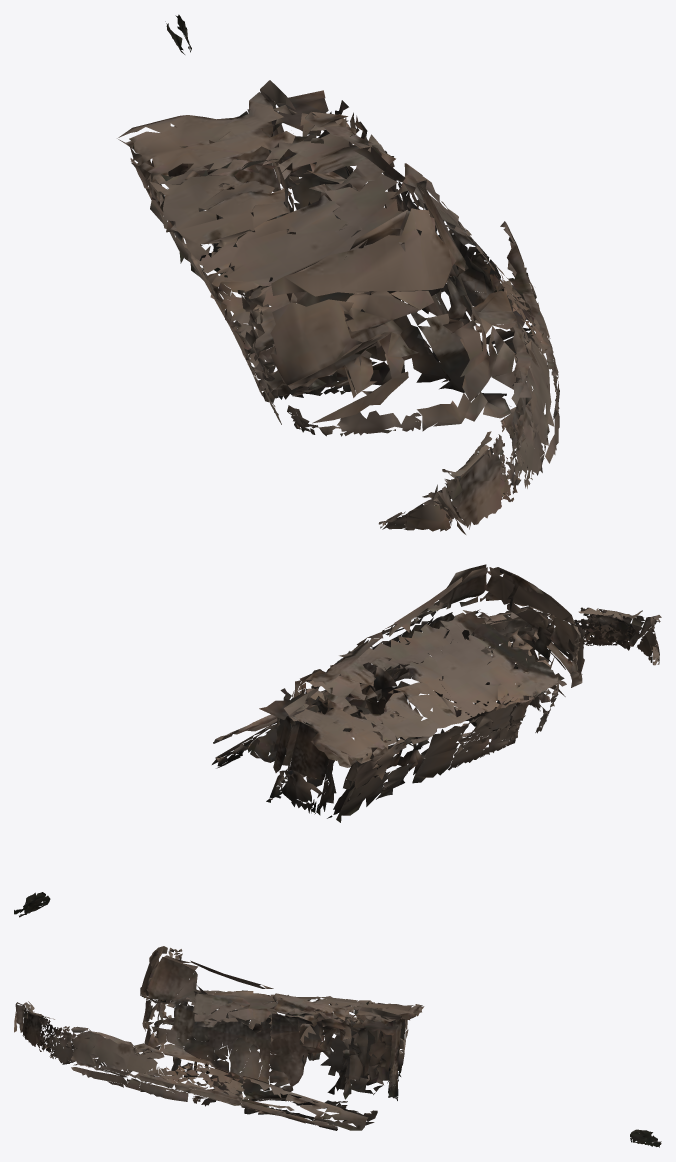
Rendered from a26_wreck_a.glb.
3 renders of one model, top to bottom at view 1: azimuth 30°, elevation 25°; view 2: azimuth 150°, elevation 25°; view 3: azimuth 270°, elevation 25°, orthographic. The views are drawn at different scales.
Parts seen in each view (by area): view 1: body; view 2: body; view 3: body.
Part boxes in pixels (left/top/right/bottom): body: left=117, top=14, right=559, bottom=534; body: left=14, top=564, right=661, bottom=917; body: left=14, top=946, right=661, bottom=1147.
Size of the model in its own units: 0.3794 by 0.2199 by 1.
Materials: 1 (1 with a texture image).
